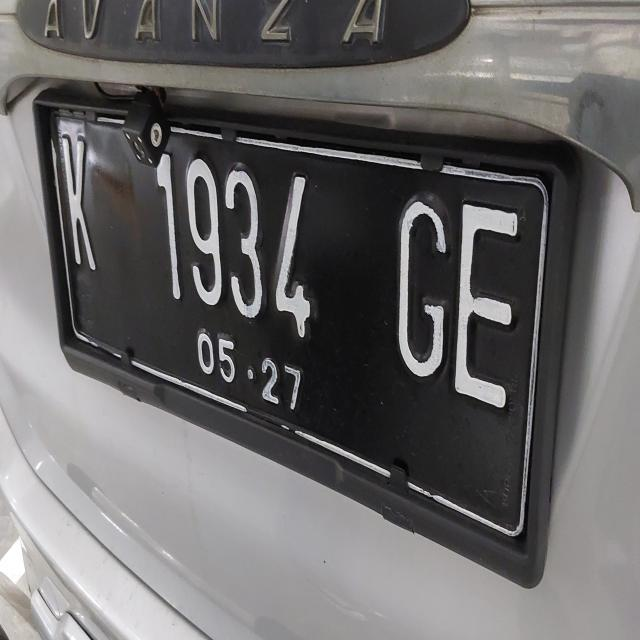1: (140, 130, 187, 314)
3: (221, 150, 272, 341)
4: (264, 150, 319, 354)
9: (178, 146, 226, 315)
E: (446, 172, 524, 426)
G: (384, 168, 451, 383)
K: (45, 110, 114, 284)
